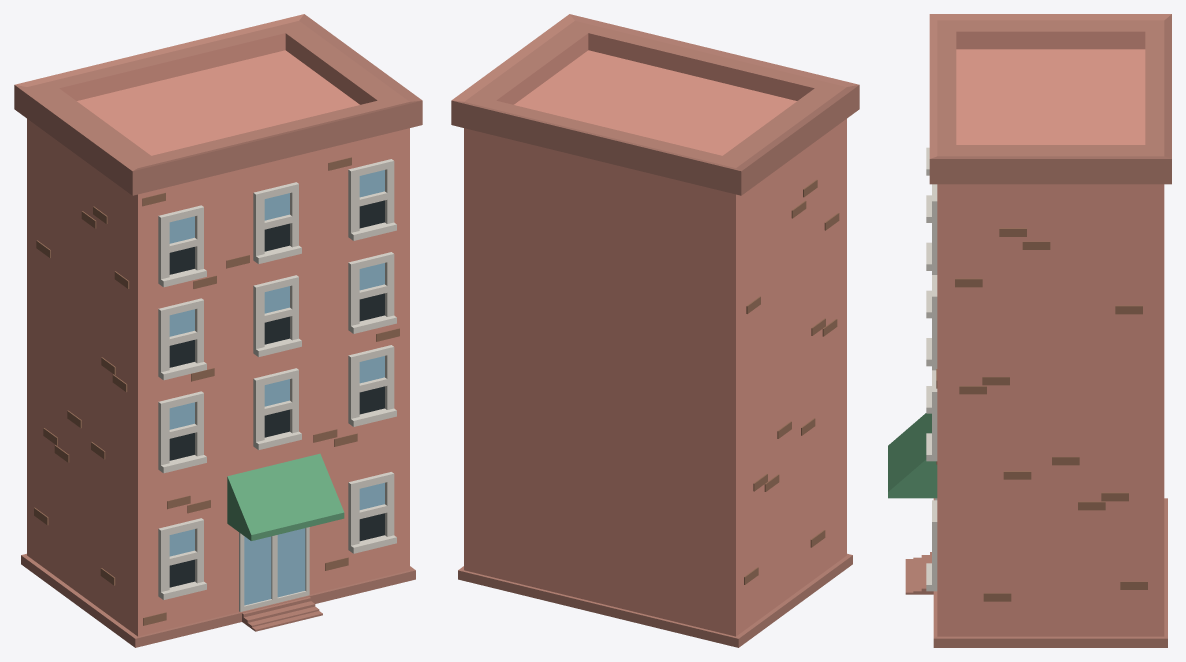
Rendered from Main_building.fbx.
The picture shows the model from 3 angles, left to right: view 1: azimuth 30°, elevation 25°; view 2: azimuth 150°, elevation 25°; view 3: azimuth 270°, elevation 25°; orthographic projection. The views are drawn at different scales.
Parts seen in each view (by area): view 1: Building, Windows_Geo, Tent, Door, Bricks_Front_Geo, Bricks_L_SIde_Geo, Stairs; view 2: Building, Bricks_L_SIde_Geo; view 3: Building, Windows_Geo, Tent, Bricks_R_SIde_Geo, Stairs.
Part boxes in pixels (x1,y1,x2,y2): Building: (14, 14, 422, 647); Windows_Geo: (158, 159, 396, 600); Tent: (227, 453, 344, 540); Door: (239, 527, 309, 611); Bricks_Front_Geo: (142, 157, 399, 625); Bricks_L_SIde_Geo: (34, 206, 129, 585); Stairs: (242, 596, 322, 631); Building: (451, 14, 859, 647); Bricks_L_SIde_Geo: (744, 179, 839, 584); Building: (929, 14, 1171, 647); Windows_Geo: (926, 147, 937, 591); Tent: (888, 413, 937, 498); Bricks_R_SIde_Geo: (955, 228, 1147, 601); Stairs: (905, 552, 933, 594).
Bounding box in the file's own units: 11.17 × 17.63 × 9.24.
